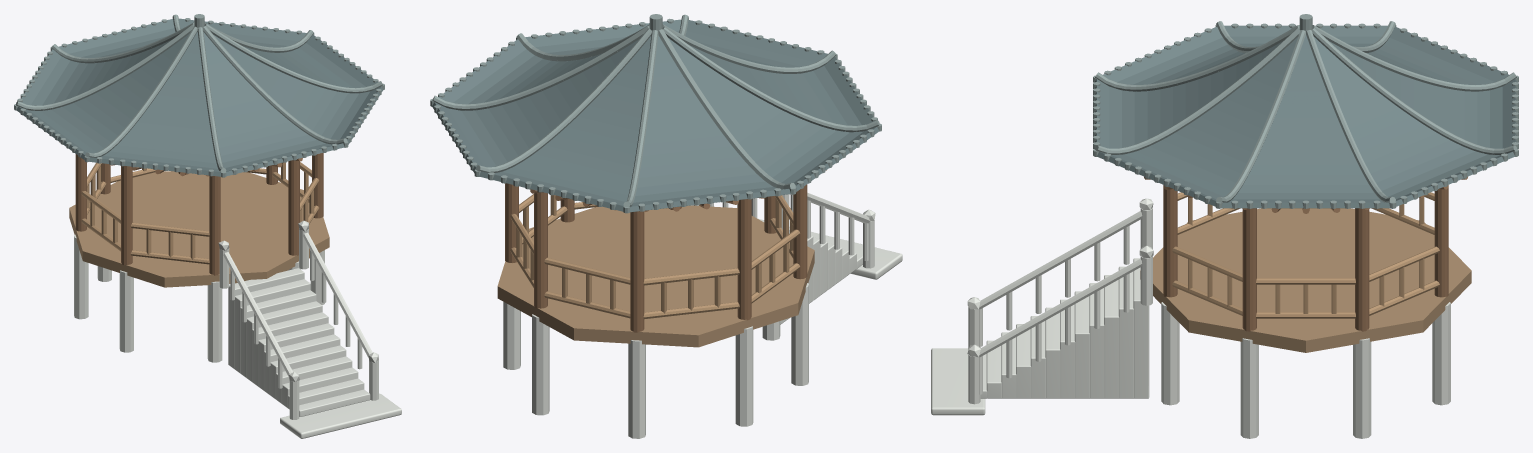
Rendered from landmark.glb.
The picture shows the model from 3 angles, left to right: view 1: azimuth 30°, elevation 25°; view 2: azimuth 150°, elevation 25°; view 3: azimuth 270°, elevation 25°; orthographic projection. The views are drawn at different scales.
Visible parts, largest first — view 1: Raised octagonal floor, Roof curved panel 04, Roof curved panel 05, Roof curved panel 03, Roof curved panel 06, Roof curved panel 02, Roof curved panel 07, Lower stair pad, Roof curved panel 01, Roof curved panel 00, Stair tread 11, Stone support 05 (+25 smaller); view 2: Raised octagonal floor, Roof curved panel 02, Roof curved panel 01, Roof curved panel 03, Roof curved panel 00, Roof curved panel 04, Roof curved panel 07, Roof curved panel 05, Roof curved panel 06, Stone support 03, Timber column 02, Timber column 03 (+14 smaller); view 3: Raised octagonal floor, Roof curved panel 07, Roof curved panel 06, Roof curved panel 00, Roof curved panel 01, Roof curved panel 05, Roof curved panel 02, Roof curved panel 04, Lower stair pad, Roof curved panel 03, Stone support 00, Stone support 07 (+25 smaller).
Boxes of the visible parts, left/top/right/bottom form: Raised octagonal floor: left=69, top=171, right=329, bottom=287; Roof curved panel 04: left=89, top=32, right=220, bottom=176; Roof curved panel 05: left=203, top=32, right=344, bottom=176; Roof curved panel 03: left=16, top=33, right=189, bottom=159; Roof curved panel 06: left=213, top=34, right=383, bottom=144; Roof curved panel 02: left=19, top=40, right=171, bottom=105; Roof curved panel 07: left=243, top=35, right=377, bottom=87; Lower stair pad: left=280, top=393, right=401, bottom=438; Roof curved panel 01: left=58, top=19, right=175, bottom=57; Roof curved panel 00: left=178, top=18, right=306, bottom=47; Stair tread 11: left=228, top=268, right=304, bottom=368; Stone support 05: left=207, top=281, right=222, bottom=362; Raised octagonal floor: left=497, top=205, right=814, bottom=347; Roof curved panel 02: left=630, top=35, right=790, bottom=212; Roof curved panel 01: left=479, top=36, right=651, bottom=211; Roof curved panel 03: left=668, top=38, right=879, bottom=191; Roof curved panel 00: left=432, top=39, right=638, bottom=173; Roof curved panel 04: left=689, top=45, right=875, bottom=125; Roof curved panel 07: left=438, top=39, right=602, bottom=104; Roof curved panel 05: left=685, top=20, right=827, bottom=67; Roof curved panel 06: left=525, top=19, right=681, bottom=54; Stone support 03: left=735, top=326, right=753, bottom=426; Timber column 02: left=630, top=211, right=644, bottom=332; Timber column 03: left=737, top=199, right=751, bottom=320; Raised octagonal floor: left=1140, top=208, right=1471, bottom=352; Roof curved panel 07: left=1222, top=35, right=1389, bottom=208; Roof curved panel 06: left=1097, top=37, right=1297, bottom=206; Roof curved panel 00: left=1314, top=37, right=1514, bottom=206; Roof curved panel 01: left=1329, top=41, right=1516, bottom=148; Roof curved panel 05: left=1095, top=41, right=1282, bottom=148; Roof curved panel 02: left=1367, top=26, right=1508, bottom=84; Roof curved panel 04: left=1103, top=26, right=1244, bottom=84; Lower stair pad: left=931, top=348, right=985, bottom=415; Roof curved panel 03: left=1224, top=25, right=1387, bottom=46; Stone support 00: left=1353, top=338, right=1371, bottom=438; Stone support 07: left=1240, top=338, right=1258, bottom=438.
Size of the model in its own units: 7.84 by 7.49 by 10.82.
